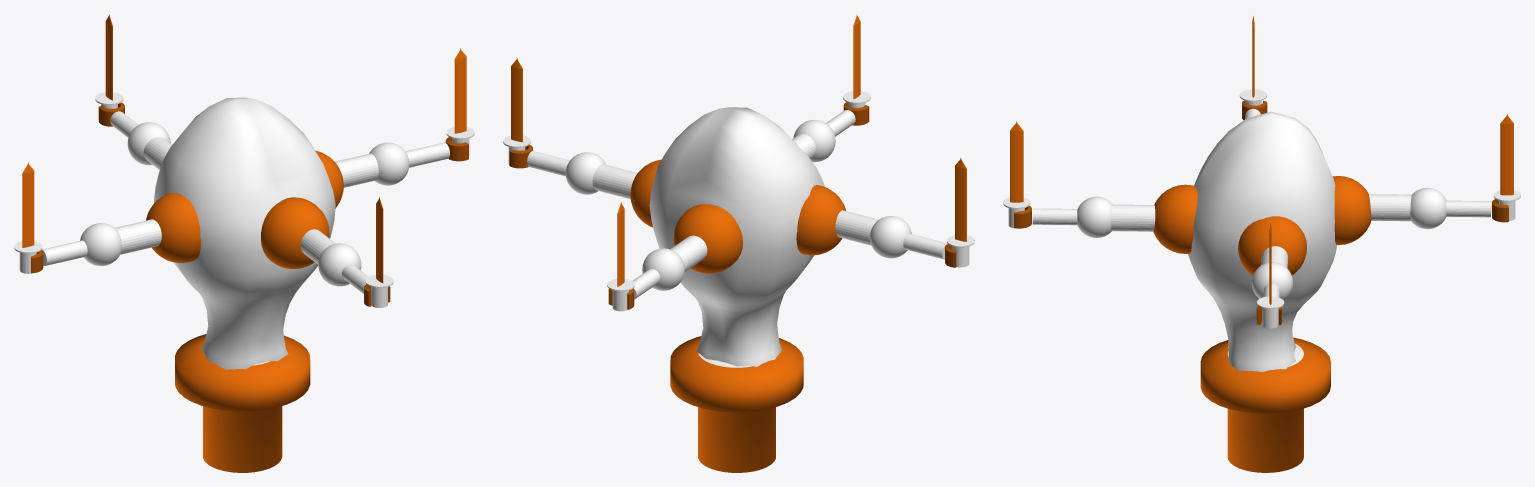
The model's file is EnemyMelee.fbx.
The picture shows the model from 3 angles, left to right: view 1: azimuth 30°, elevation 25°; view 2: azimuth 150°, elevation 25°; view 3: azimuth 270°, elevation 25°; orthographic projection. The views are drawn at different scales.
Parts seen in each view (by area): view 1: EnemyMelee; view 2: EnemyMelee; view 3: EnemyMelee.
Part boxes in pixels (bbox=[...]): EnemyMelee: bbox=[14, 14, 474, 472]; EnemyMelee: bbox=[503, 14, 974, 472]; EnemyMelee: bbox=[1003, 16, 1520, 472].
Size of the model in its own units: 101 by 73.41 by 101.
